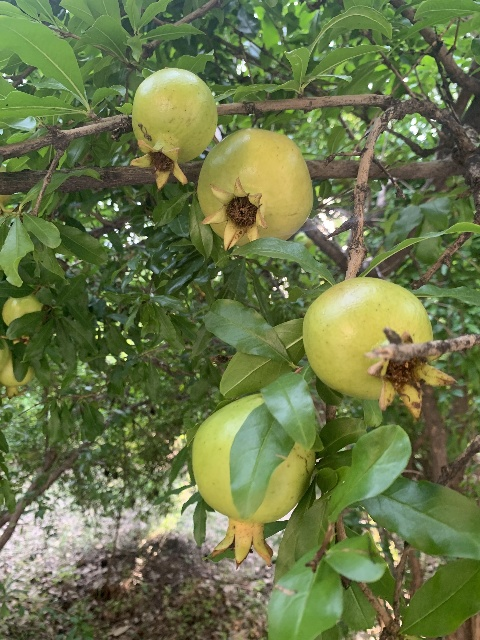mid-growth: (303, 277, 458, 419), (191, 392, 315, 569), (196, 127, 313, 251), (129, 66, 218, 190), (0, 295, 44, 344), (0, 356, 32, 399)
